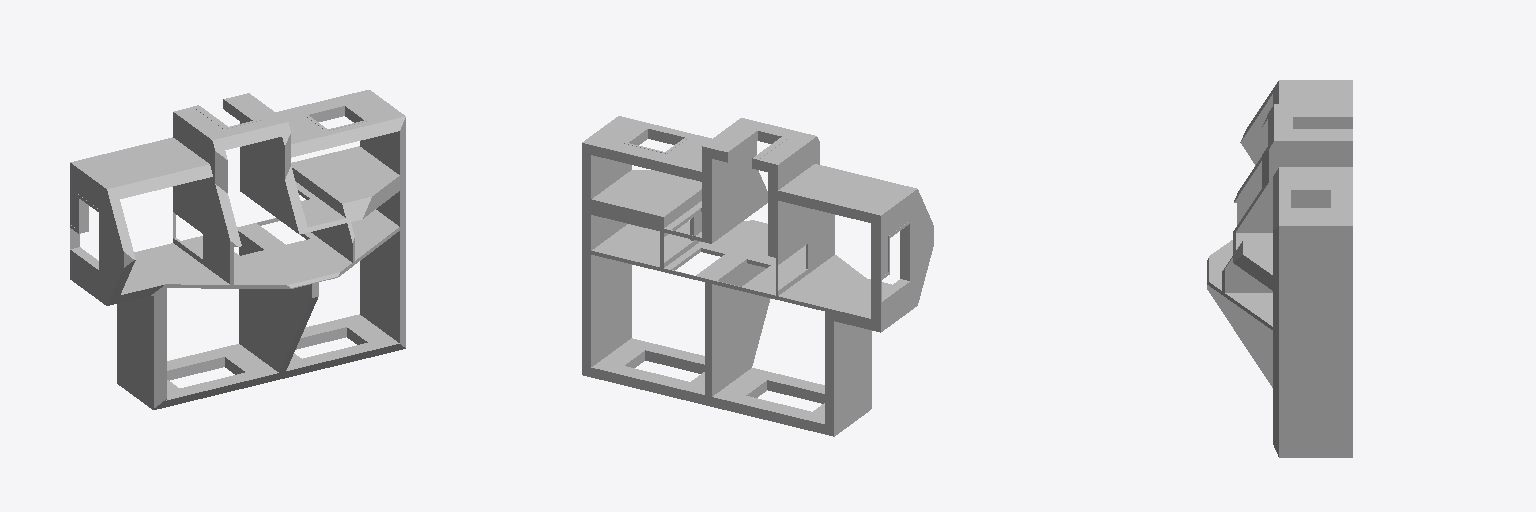
Rendered from Waende_OG.obj.
3 renders of one model, left to right at view 1: azimuth 30°, elevation 25°; view 2: azimuth 150°, elevation 25°; view 3: azimuth 270°, elevation 25°, orthographic.
Bounding box in the file's own units: 12208 × 10078 × 5144.